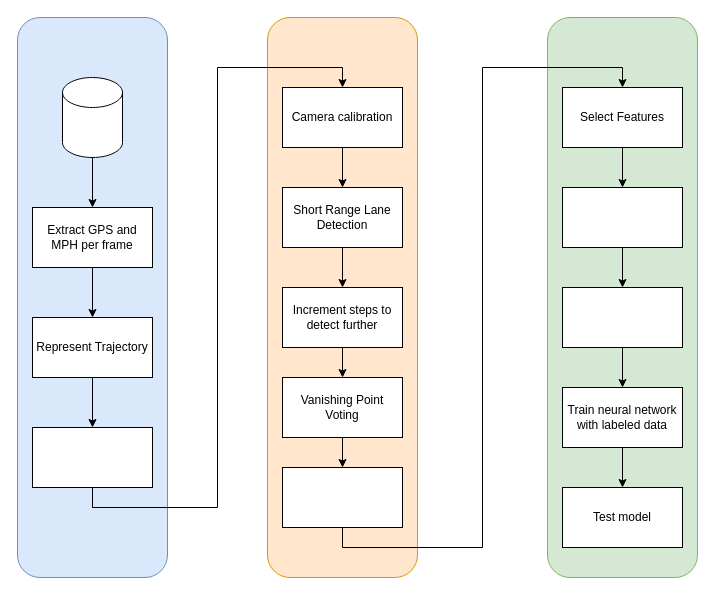
The diagram is 715 pixels wide and 595 high, and some of its shapes have lost their labels. The centre of each missing label's shape, as x and y in pixels:
"Clip videos to uniform run ups and Labels" goes at point 92,457.
"Raw File" goes at point 92,117.
"Represent change in x in vector" goes at point 622,317.
"ROI Clipping" goes at point 342,497.
"Track Features between Frames" goes at point 622,217.
